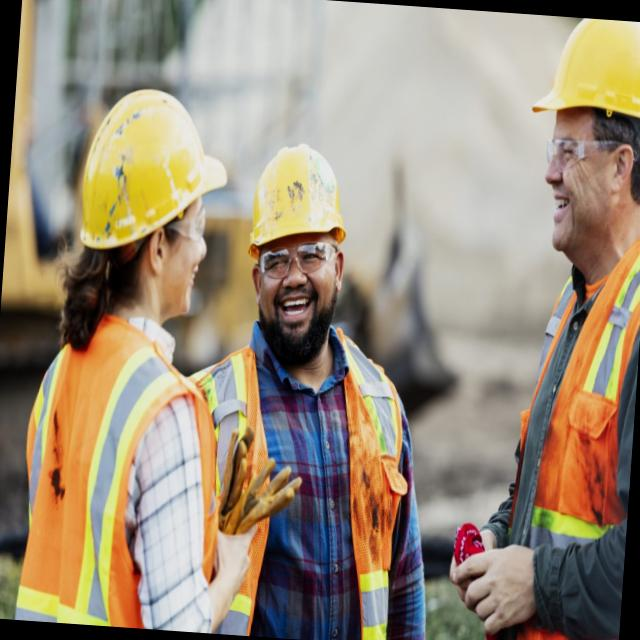goggles: (536, 128, 640, 179), (248, 232, 337, 284), (166, 200, 212, 240)
helmet: (72, 82, 235, 264), (245, 138, 354, 270), (528, 14, 640, 135)
vest: (1, 296, 236, 634), (175, 317, 419, 640), (482, 222, 640, 640)
